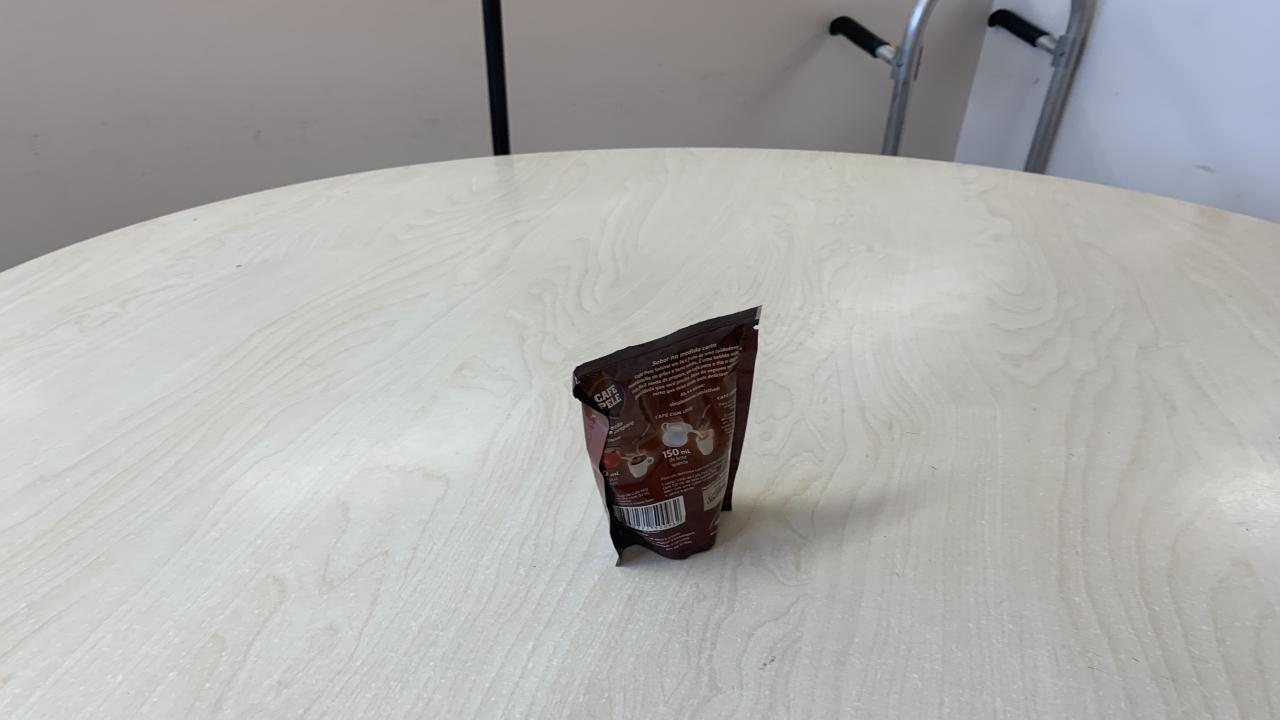Coffee-Pantry_Items: (569, 310, 761, 562)
